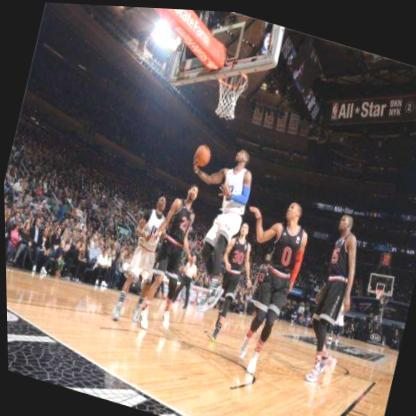basketball: (193, 141, 212, 166)
rim: (209, 63, 250, 121)
